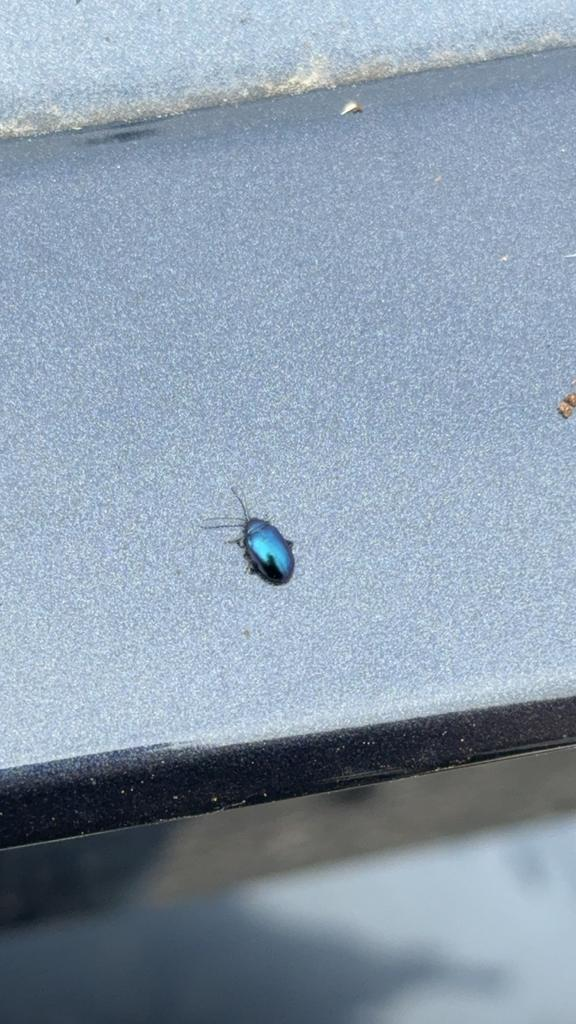flea_beetle: (195, 463, 328, 616)
